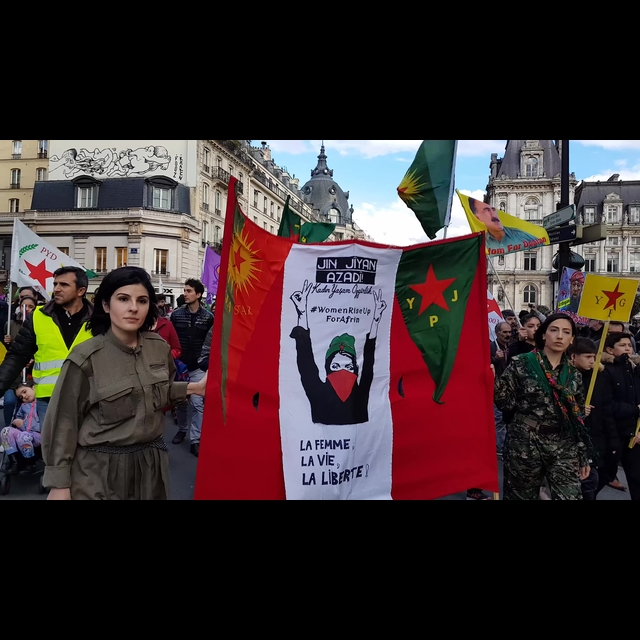APO: (472, 200, 511, 235)
PYD: (15, 231, 58, 278)
YPJ: (397, 259, 473, 417)
